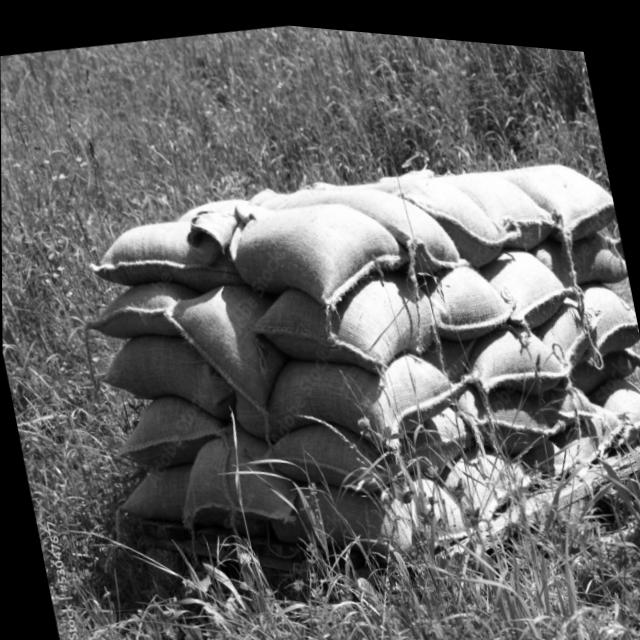sack: (256, 322, 470, 471), (219, 165, 416, 325), (258, 146, 466, 291), (246, 255, 442, 392), (289, 447, 472, 573), (158, 266, 294, 426), (93, 313, 241, 439), (381, 143, 517, 277), (166, 412, 303, 536), (82, 204, 224, 295), (259, 402, 389, 501), (500, 136, 620, 242), (514, 382, 632, 486), (106, 379, 229, 478), (450, 146, 559, 248), (451, 305, 568, 398), (455, 362, 566, 455), (439, 428, 538, 529), (78, 268, 192, 348), (423, 244, 518, 339), (481, 229, 572, 326), (533, 210, 629, 287), (530, 278, 608, 370), (571, 264, 640, 360), (112, 456, 202, 527), (590, 361, 640, 442)
